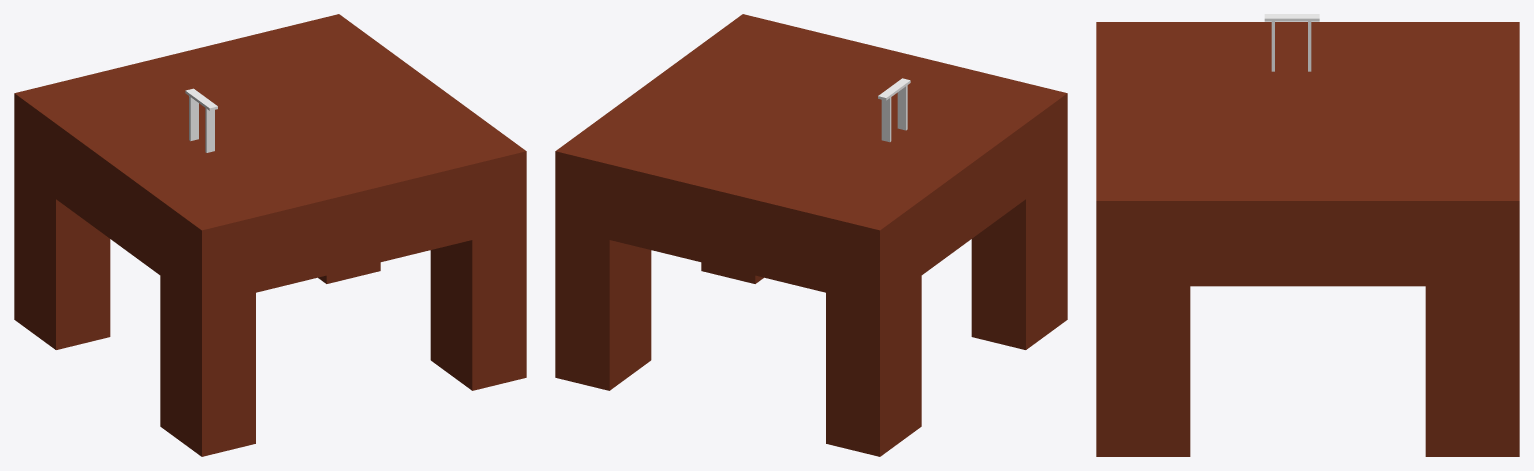
Rendered from keva_pi_rotated.dae.
3 views of the same model, side by side, from view 1: azimuth 30°, elevation 25°; view 2: azimuth 150°, elevation 25°; view 3: azimuth 270°, elevation 25° (orthographic). The views are drawn at different scales.
Visible parts, largest first — view 1: base (×5); view 2: base (×5); view 3: base (×4).
Part boxes in pixels (box(x1,y1,x2,y2)): base (×5): box(14, 14, 526, 456); base (×5): box(555, 14, 1067, 456); base (×4): box(1096, 14, 1519, 456).
Size of the model in its own units: 0.9 by 0.9 by 0.7255.
